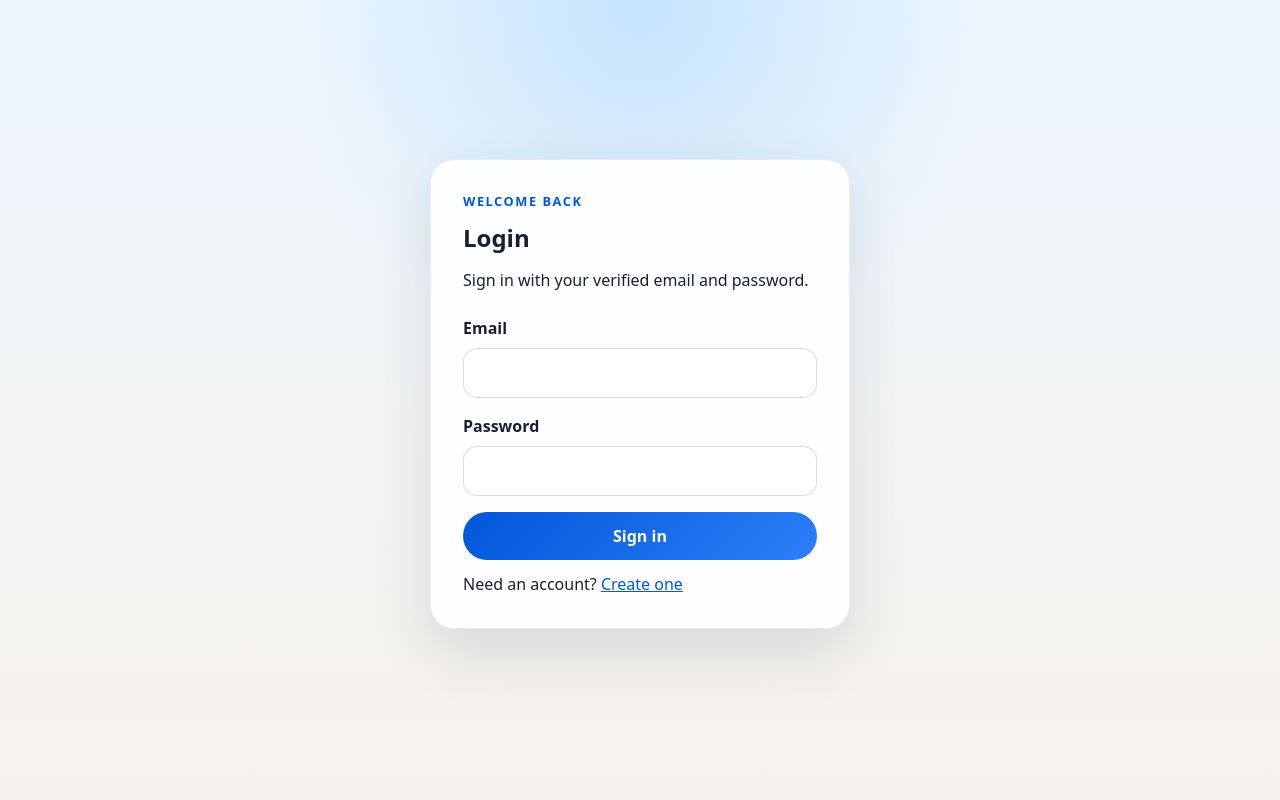
auth pages › shows API errors on login
Type "user@example.com" into the field labelled "Email" at (640, 373), box [463,348,817,398]
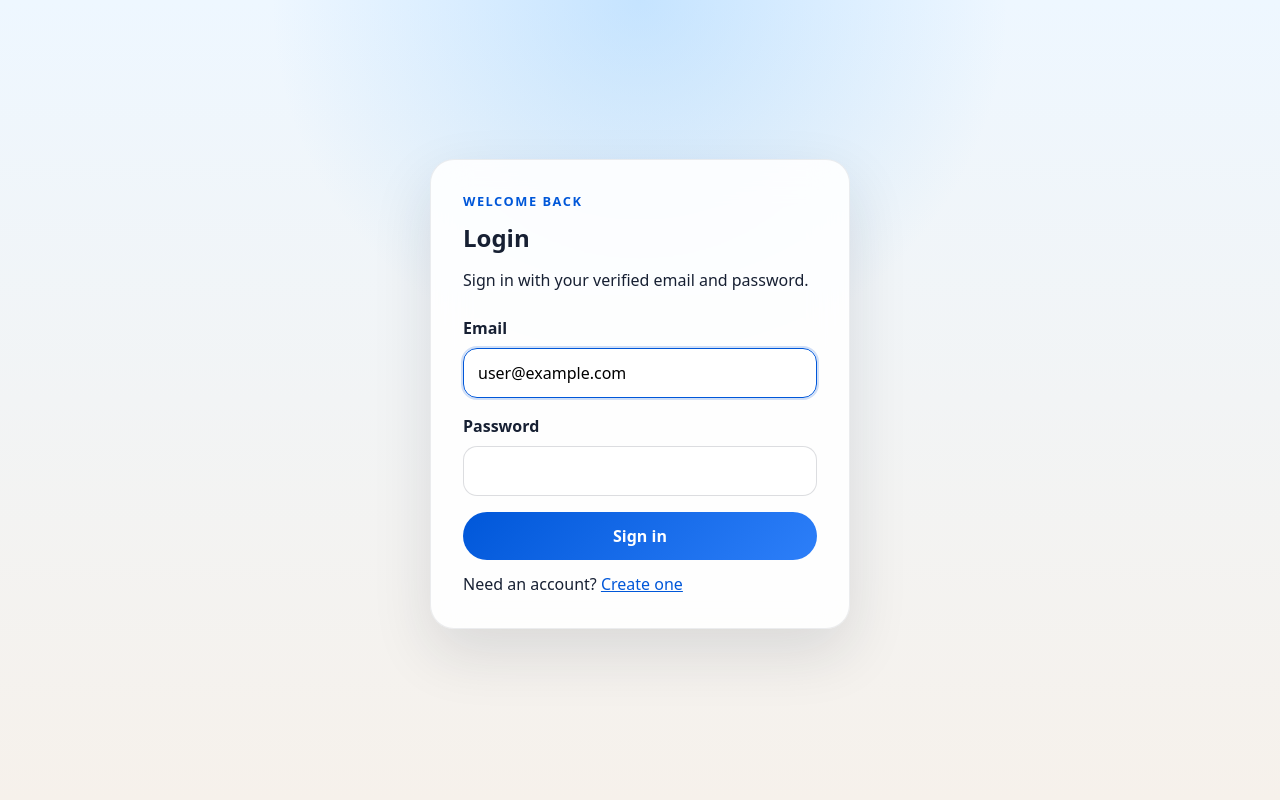
Type "password123" into the password field labelled "Password" at (640, 471), box [463,446,817,496]
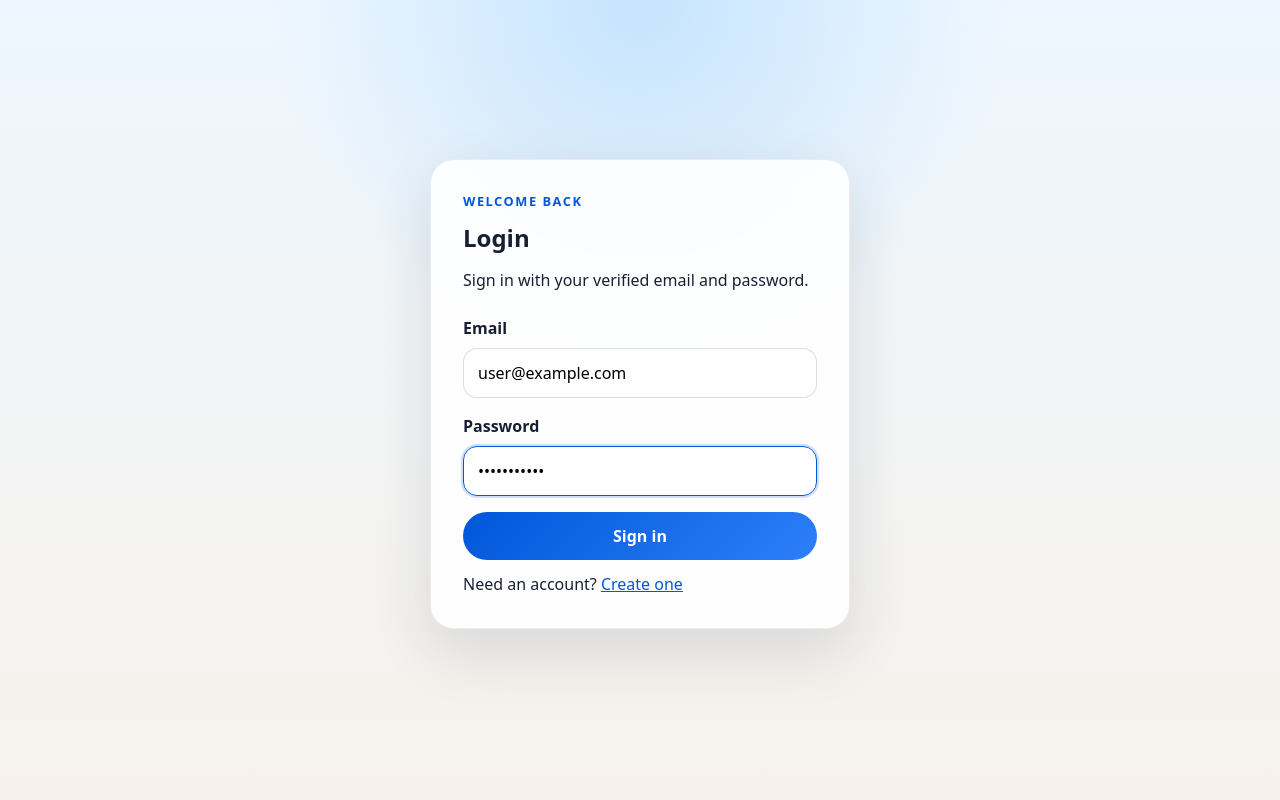
Click the button "Sign in" at (640, 536), box [463,512,817,560]
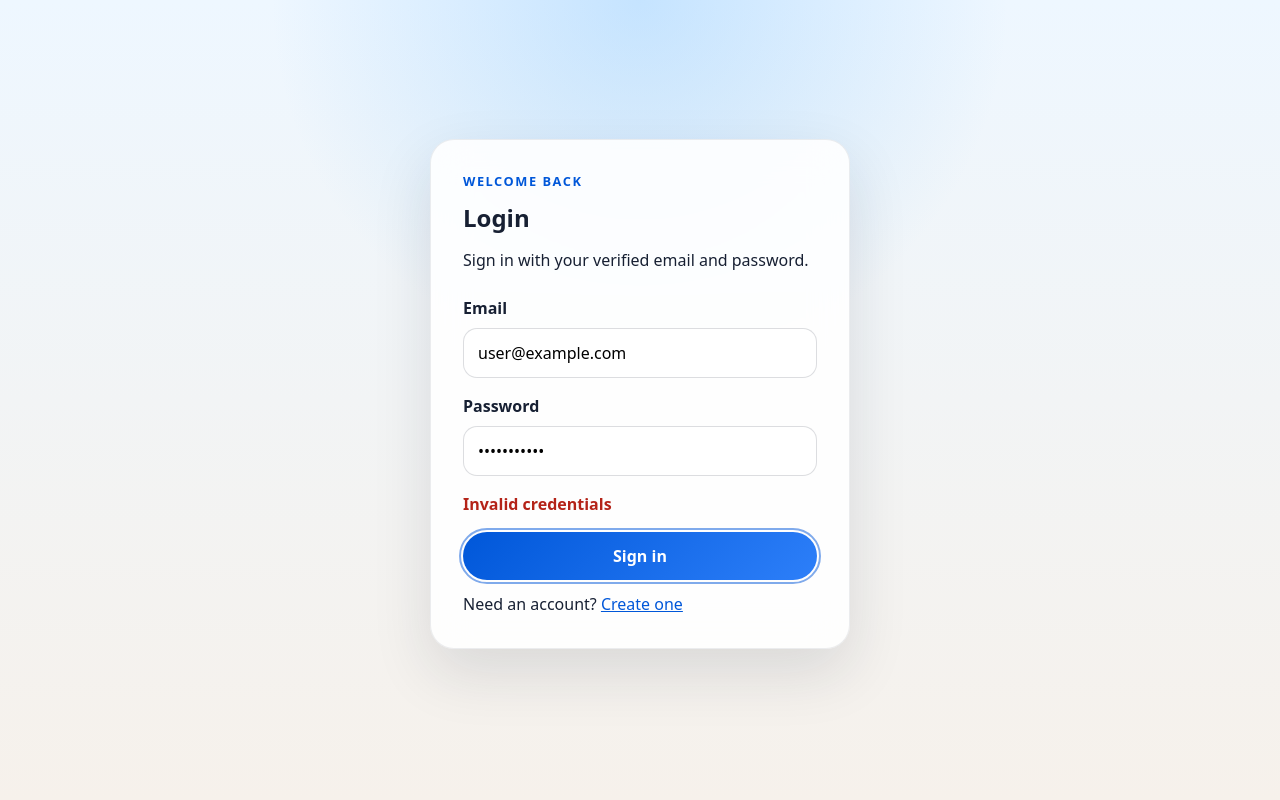
Expected: the message reads "Invalid credentials", [463,493,612,515]
